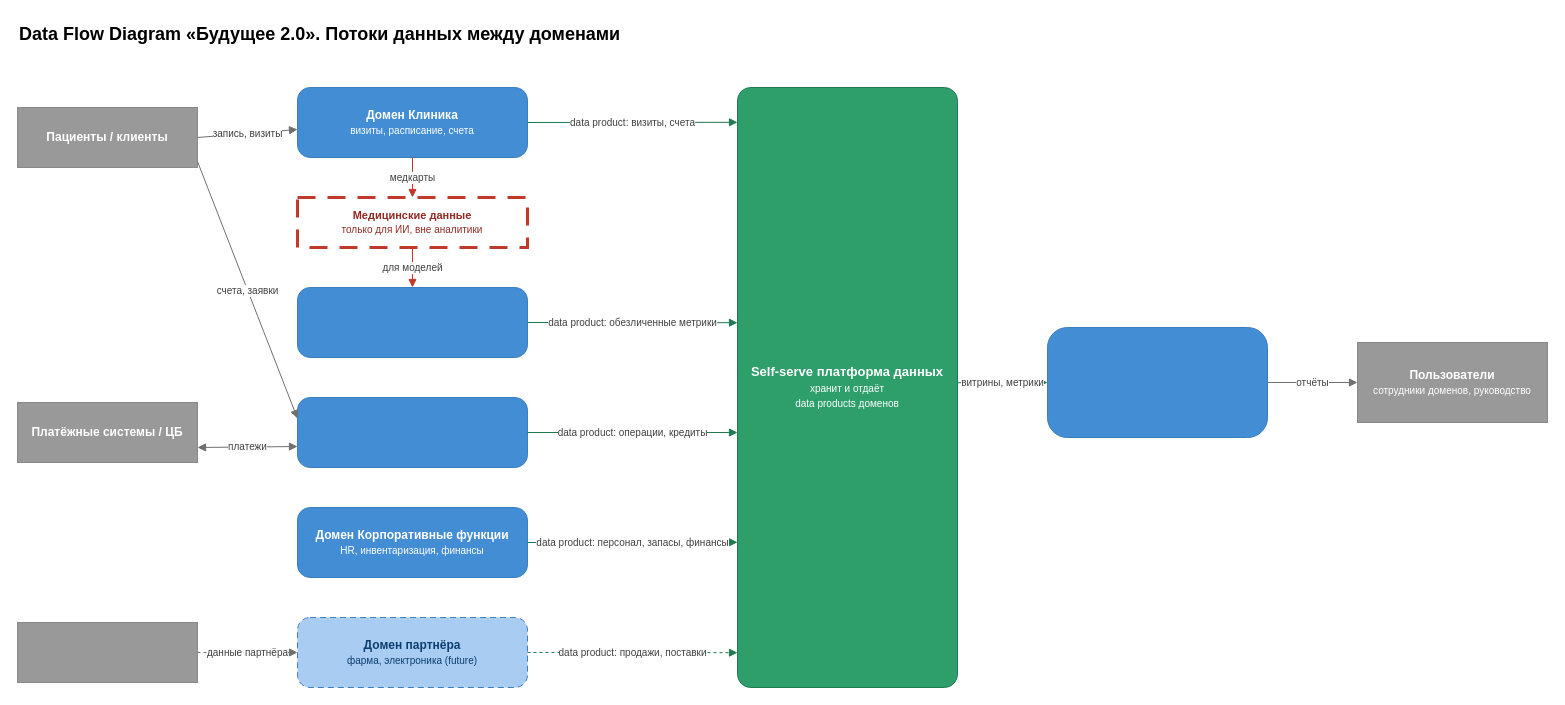
Some shapes in this 1565 by 705 pixel diagram are drawn without their labels. The shapes that lost their labels are listed below. From the top down, each one's centre as x and y in pixels, then its label:
At pixel 412 322: "Домен ИИ модели для медданных".
At pixel 1157 382: "Портал самообслуживания и BI конструктор отчётов, дашборды".
At pixel 412 432: "Домен Финтех счета, кредиты, платежи".
At pixel 107 652: "Компании-партнёры".
